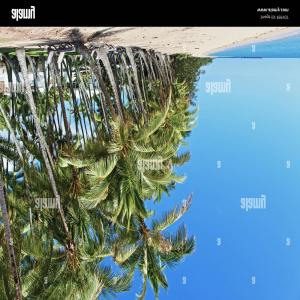palm tree: (0, 33, 202, 299)
